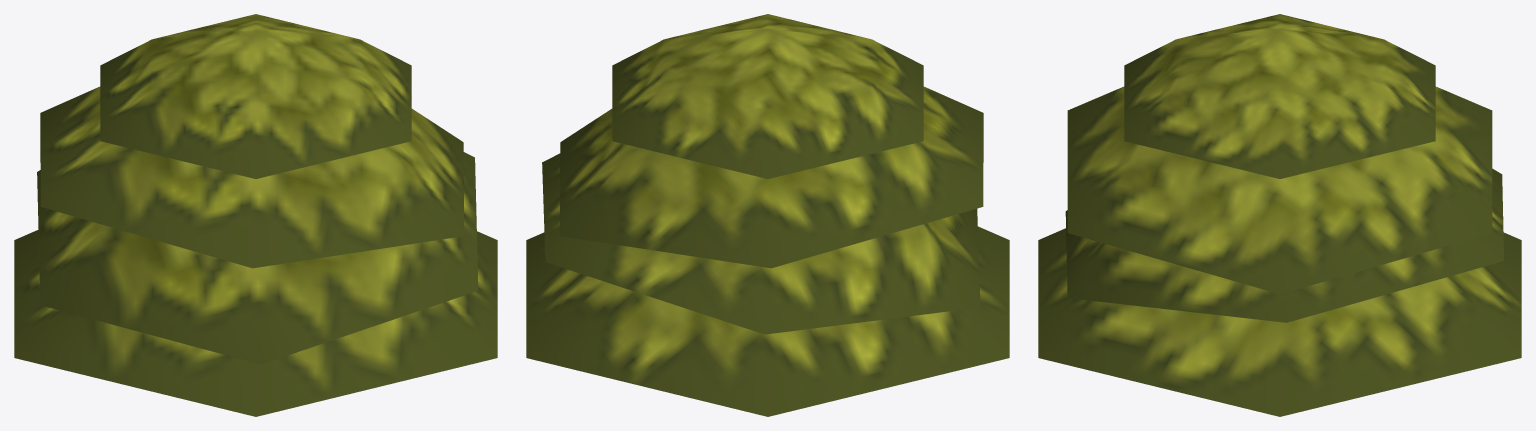
File: a_tree_5.FBX
3 views of the same model, side by side, from view 1: azimuth 30°, elevation 25°; view 2: azimuth 150°, elevation 25°; view 3: azimuth 270°, elevation 25° (orthographic).
Parts seen in each view (by area): view 1: Object017; view 2: Object017; view 3: Object017.
Part boxes in pixels (x1,y1,x2,y2): Object017: (14, 14, 497, 416); Object017: (526, 14, 1009, 416); Object017: (1038, 14, 1521, 416).
Bounding box in the file's own units: 44.75 × 38.75 × 23.76.
Materials: 1 (1 with a texture image).
